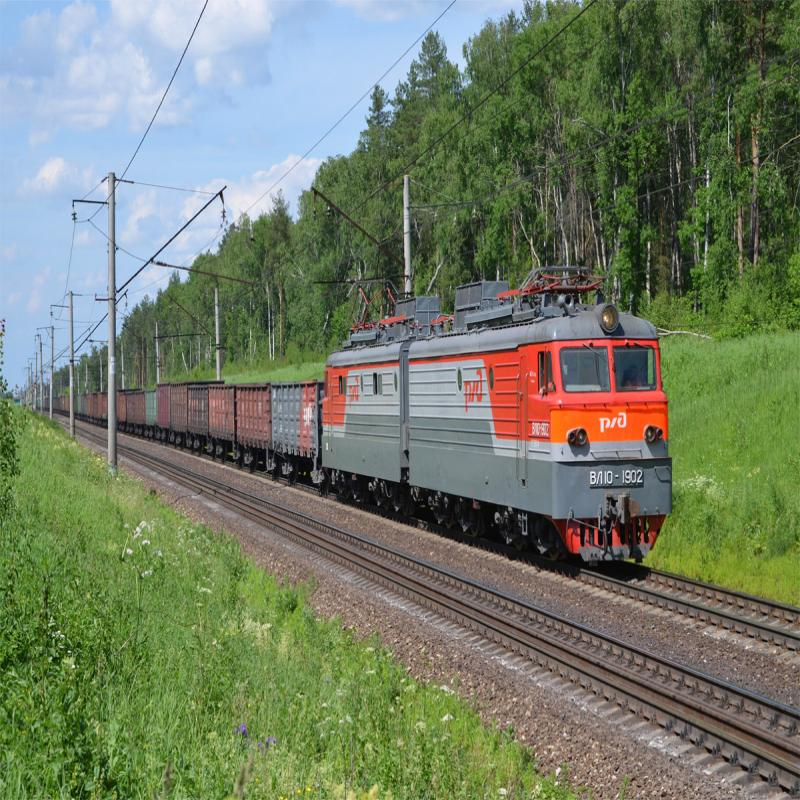train: (321, 271, 680, 573), (234, 356, 329, 498), (158, 372, 231, 469)
